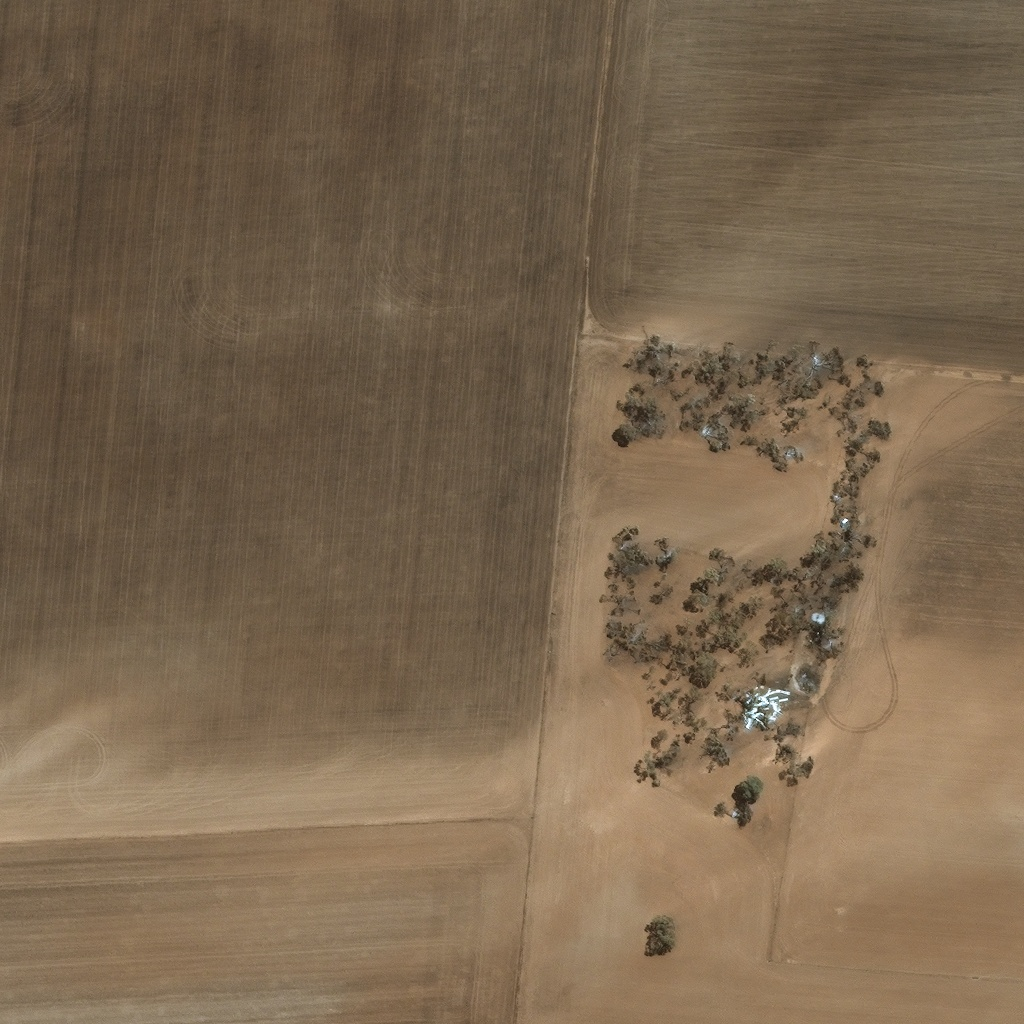3 destroyed: (750, 690, 774, 717)
